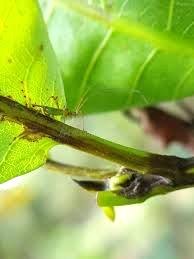Helopeltis-insect: (34, 99, 86, 125)
